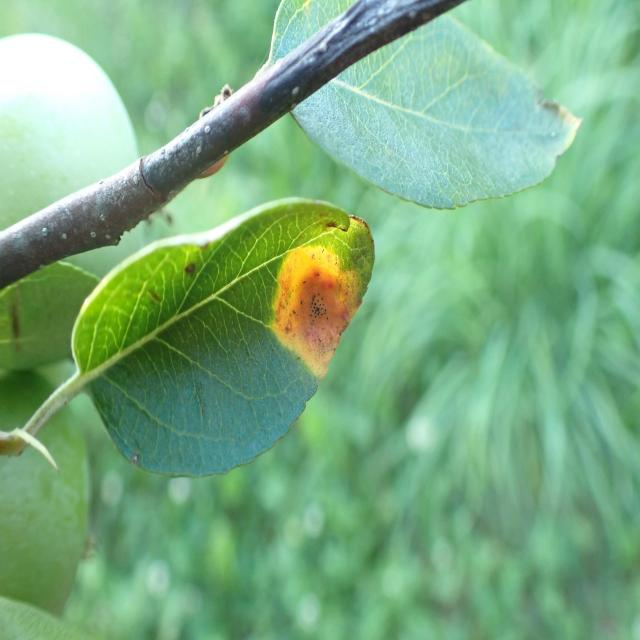Rust: (263, 229, 375, 392)
